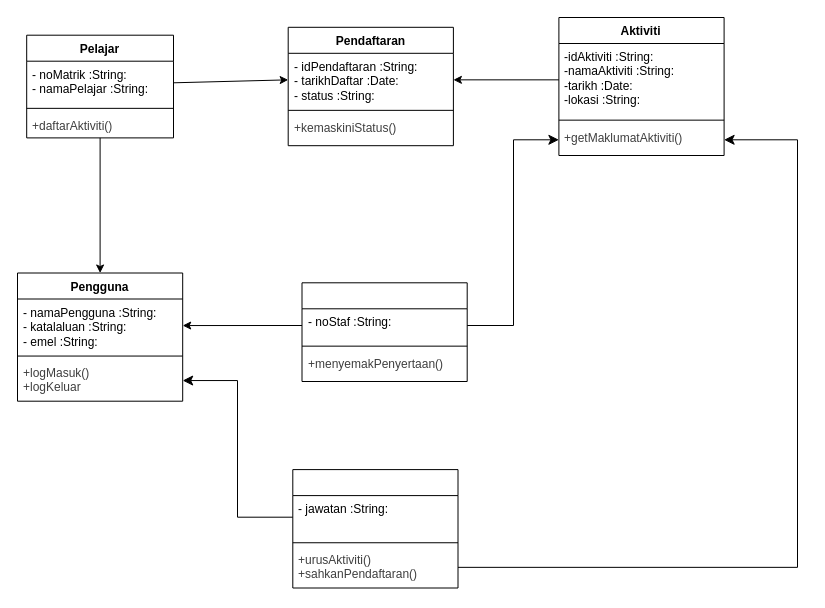
This 825x608 diagram has some shape labels left out. Each missing label, with the box of its shape:
Pensyarah: (301, 282, 467, 382)
Pentadbir Sistem: (292, 469, 458, 588)
